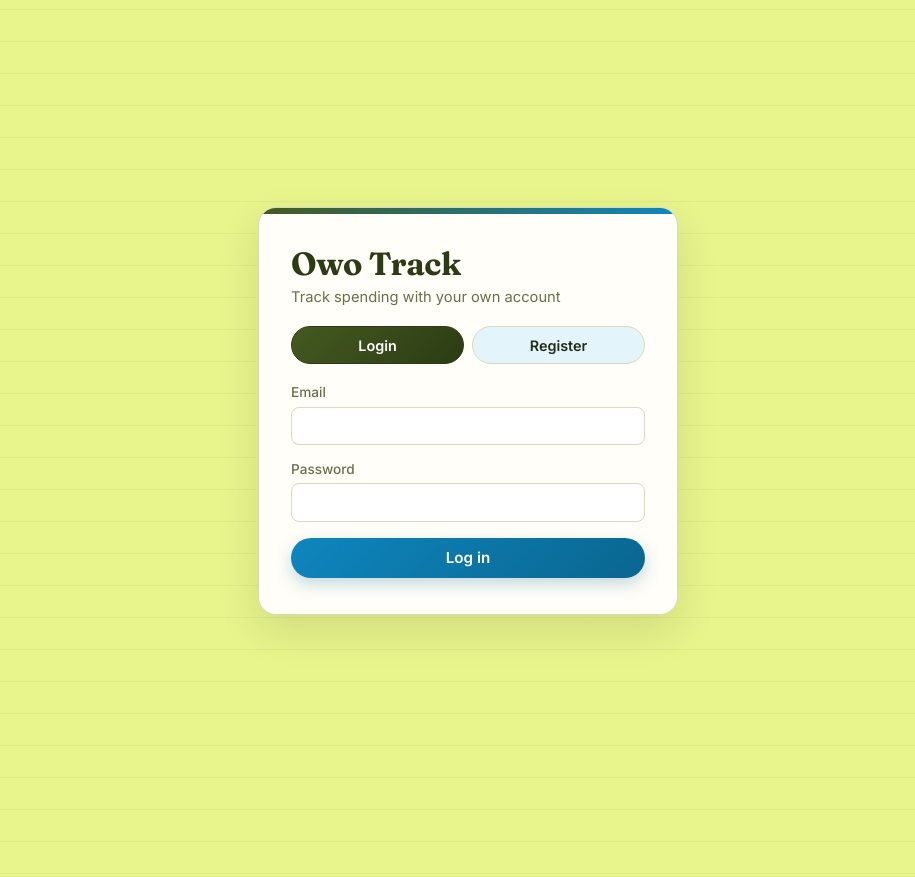
Test: App auth flow › shows admin's organization users read-only by default, with an Edit button that reveals controls
This screenshot has width=915, height=877.
Expected: the heading "Owo Track" is shown, x1=291 y1=244 x2=461 y2=283
Type "ada@owo.com" into the field labelled "Email" at (468,426), box x1=291 y1=406 x2=645 y2=445
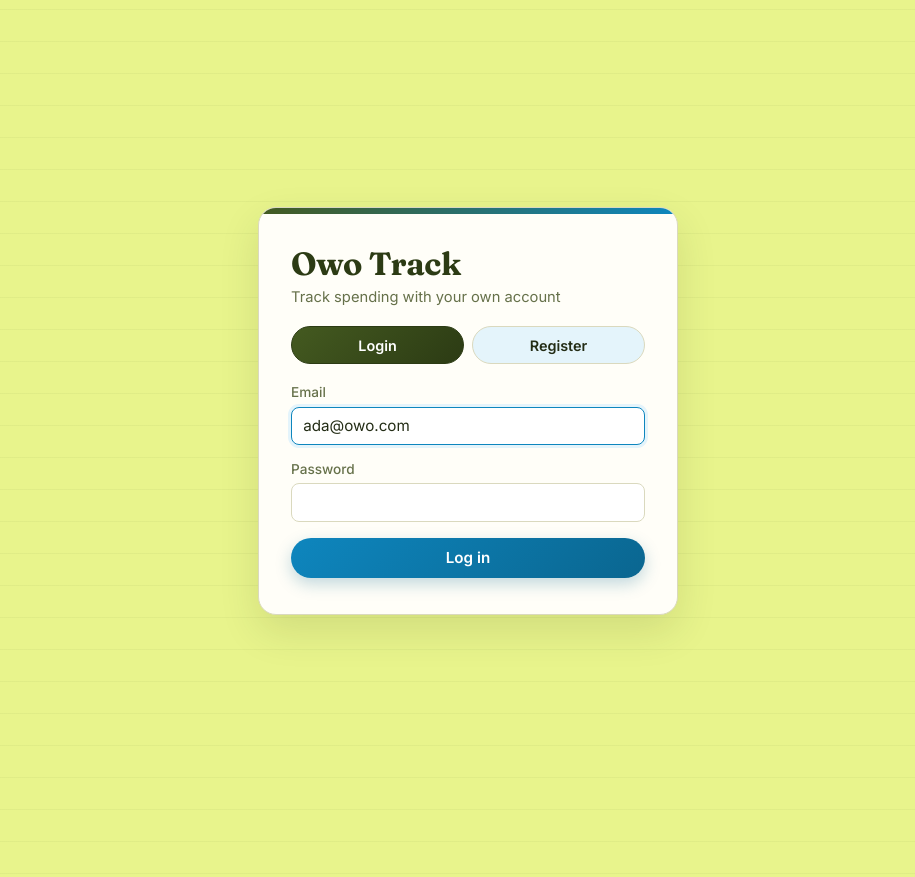
Type "password123" into the password field labelled "Password" at (468,503), box x1=291 y1=484 x2=645 y2=522
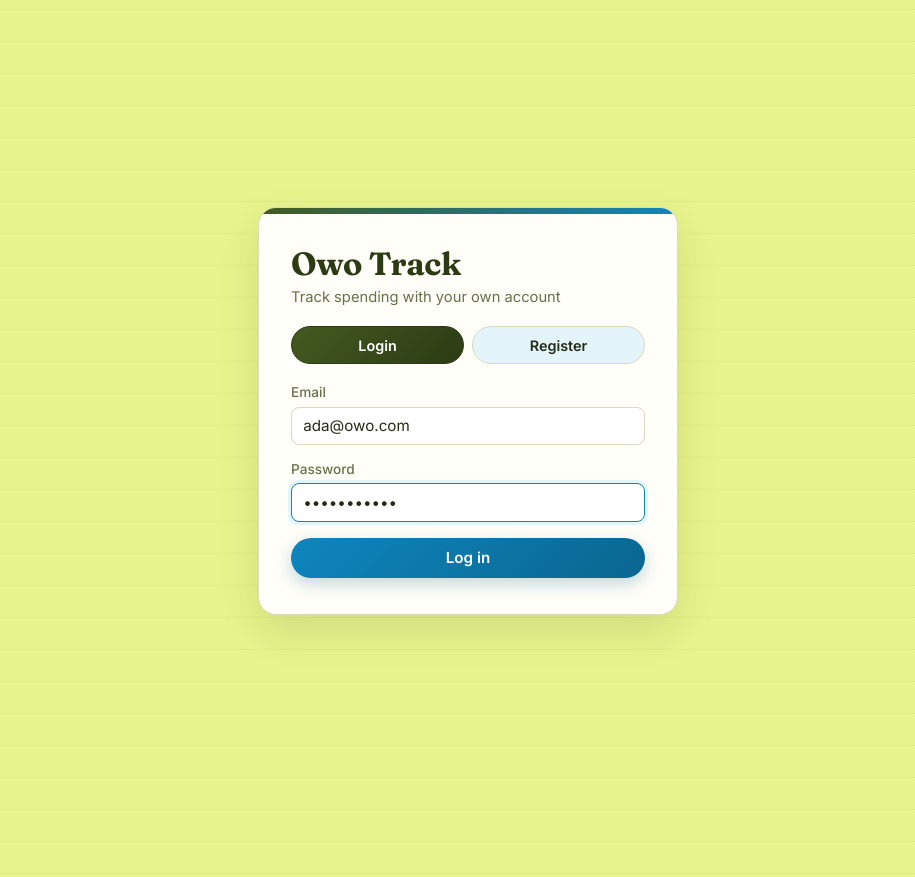
Click the button "Log in" at (468,558), box x1=291 y1=538 x2=645 y2=578
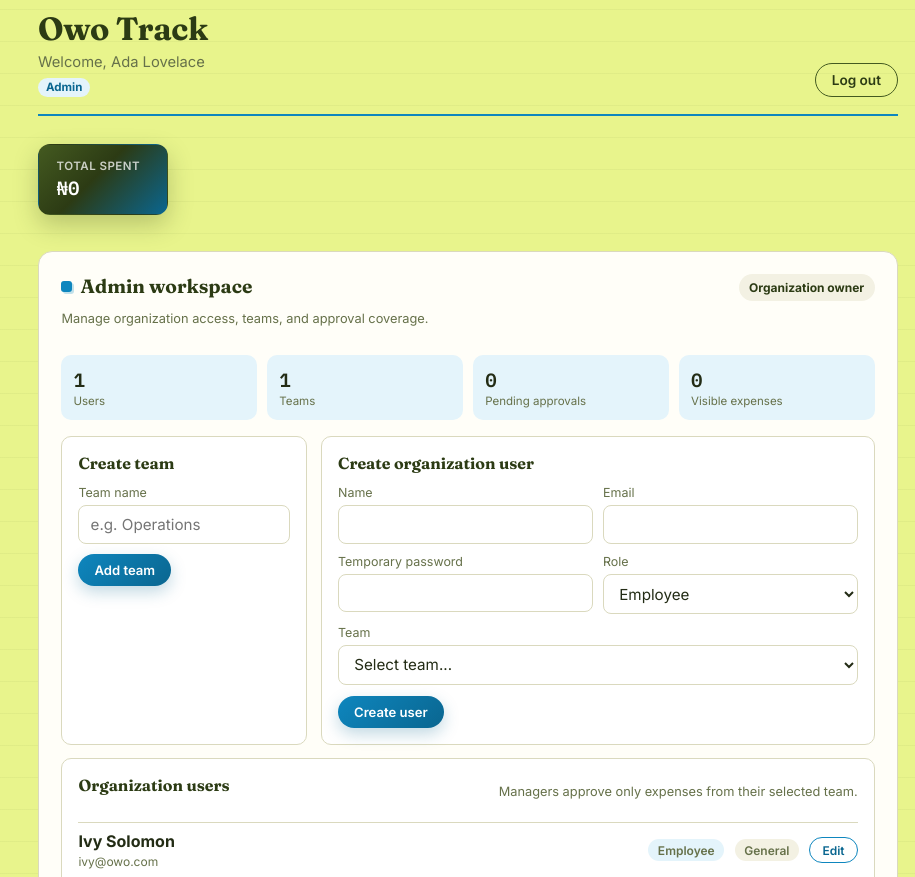
Expected: the text "Ivy Solomon" is shown, x1=78 y1=831 x2=175 y2=851
Click the button with aria-label "Edit Ivy Solomon" at (834,850), box x1=810 y1=837 x2=858 y2=863
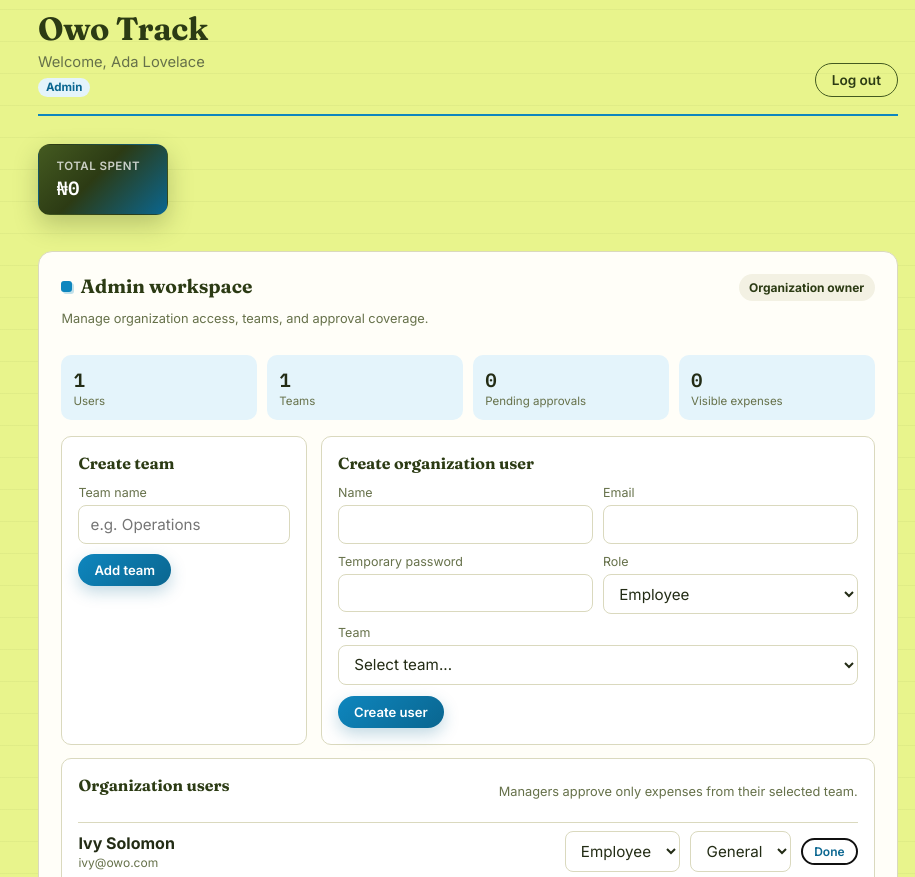
Expected: the dropdown named "Role for Ivy Solomon" is shown, x1=565 y1=831 x2=680 y2=872
Expected: the dropdown named "Team for Ivy Solomon" is shown, x1=690 y1=831 x2=791 y2=872
